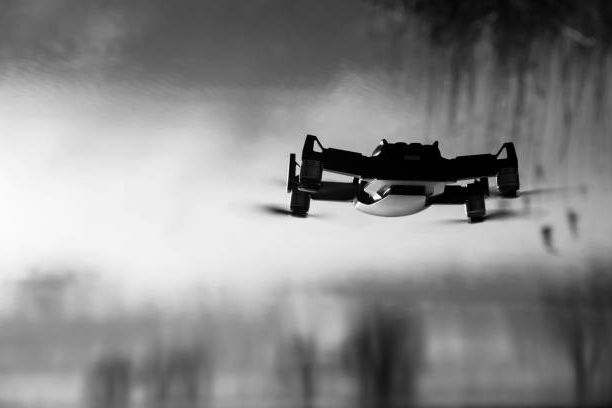Drone: (244, 132, 585, 226)
